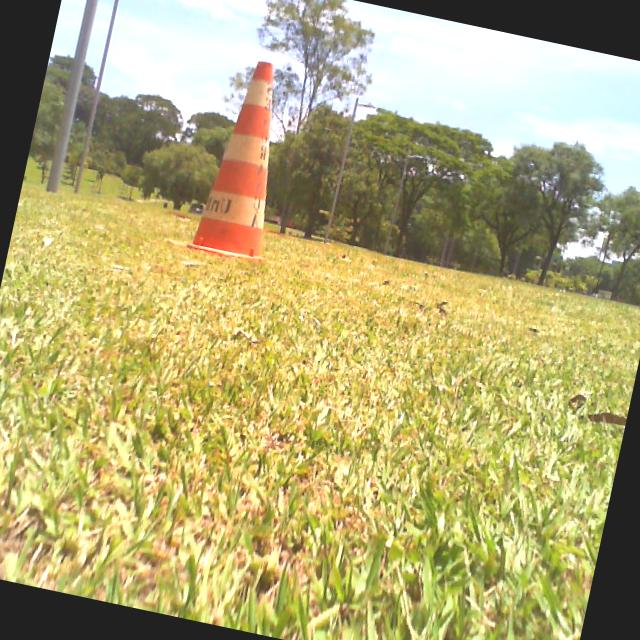cone: (186, 52, 306, 263)
